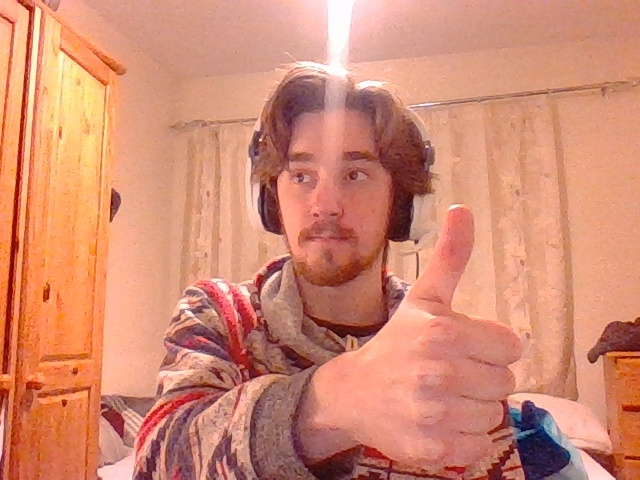good: (381, 204, 524, 470)
